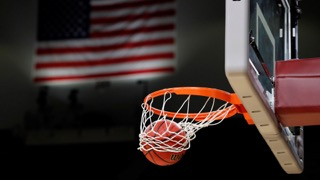MadeBasket: (137, 86, 237, 167)
